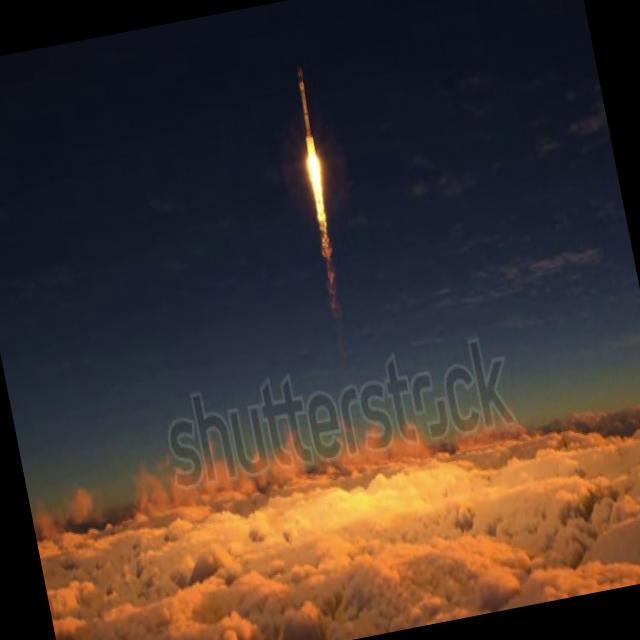rocket: (279, 55, 353, 305)
